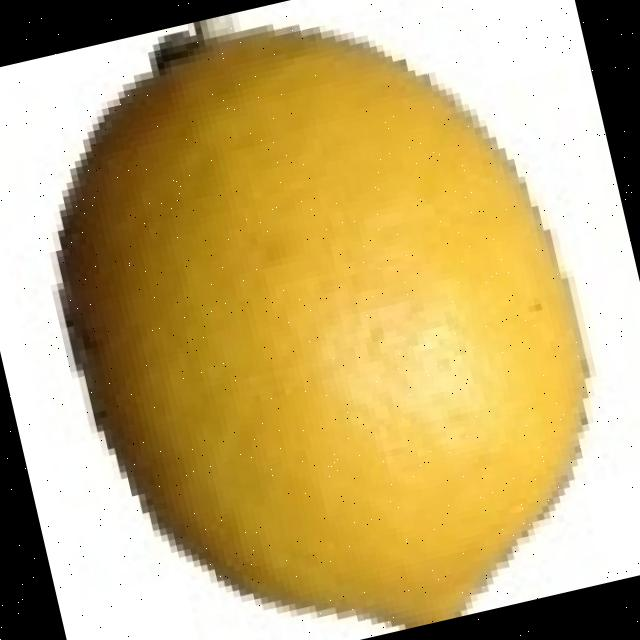lemon: (59, 31, 585, 629)
